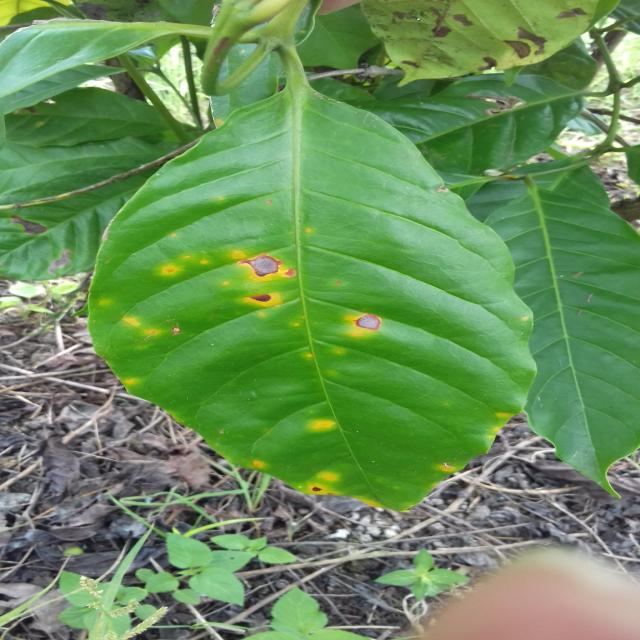Enfermedad-Roya: (87, 75, 536, 514)
